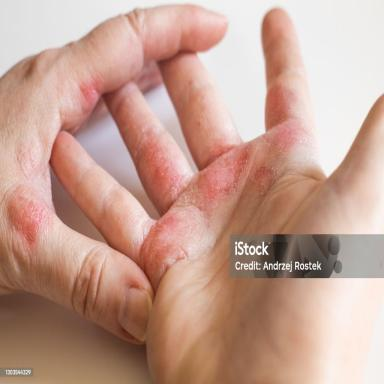eczema: (109, 89, 252, 287), (265, 82, 304, 150), (7, 185, 45, 245), (80, 77, 105, 113), (253, 166, 278, 195)
